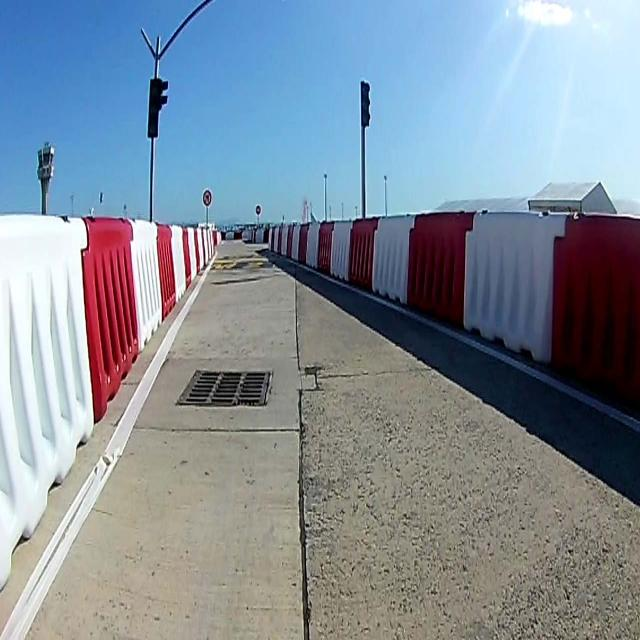soladonulmez: (202, 190, 212, 207)
